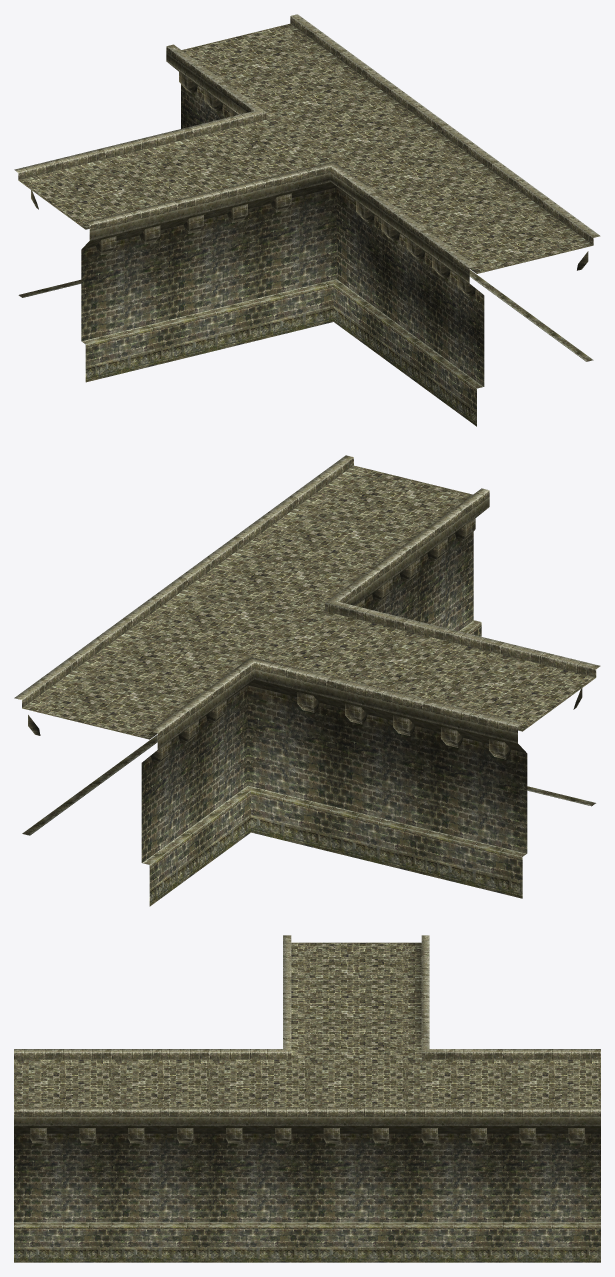
File: OZ_30_kn_castle01V.glb
3 renders of one model, top to bottom at view 1: azimuth 30°, elevation 25°; view 2: azimuth 150°, elevation 25°; view 3: azimuth 270°, elevation 25°, orthographic. The views are drawn at different scales.
Visible parts, largest first — view 1: OM_30_kn_castle01V; view 2: OM_30_kn_castle01V; view 3: OM_30_kn_castle01V.
Part boxes in pixels (x1=…): OM_30_kn_castle01V: x1=14, y1=14, x2=600, y2=426; OM_30_kn_castle01V: x1=14, y1=455, x2=600, y2=906; OM_30_kn_castle01V: x1=14, y1=935, x2=600, y2=1262.
Size of the model in its own units: 25.5 by 10.5 by 36.
2 materials, 2 textured.
